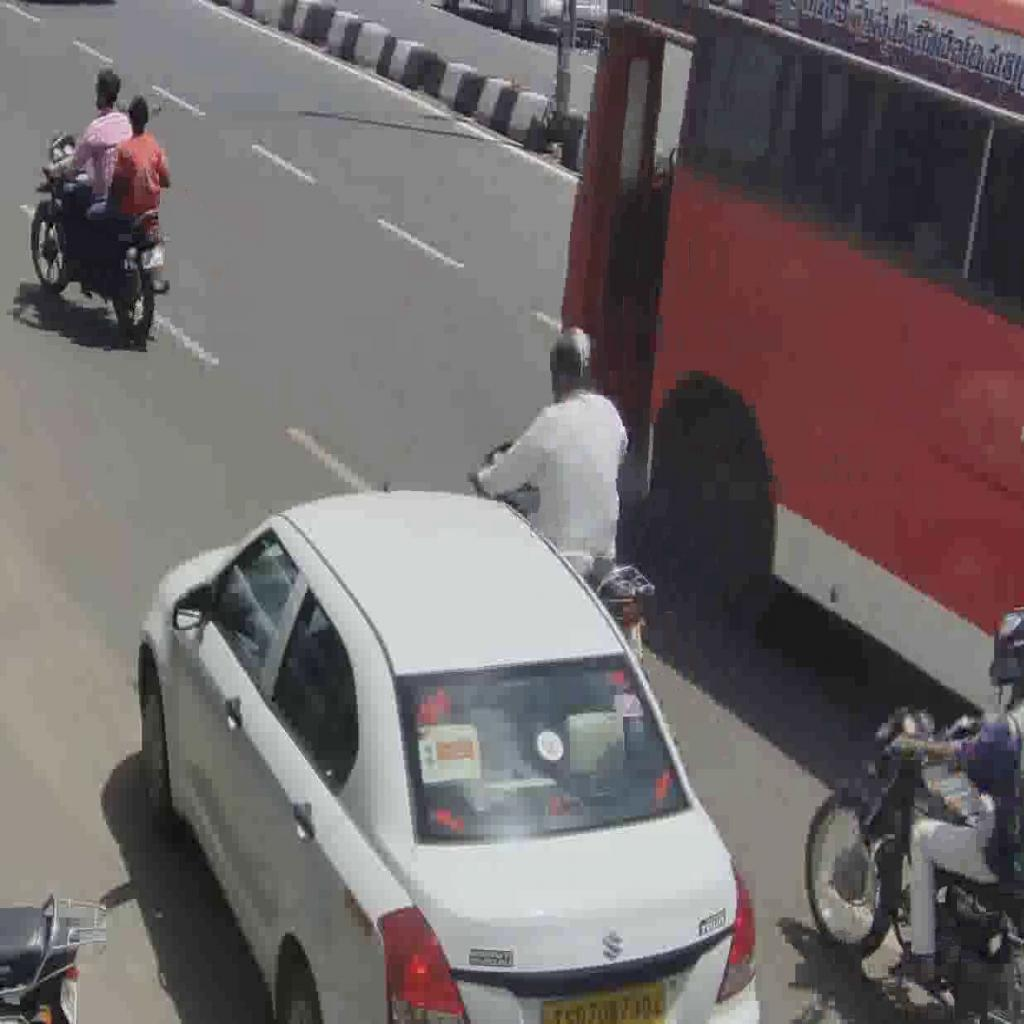bike: (804, 696, 1022, 1024), (30, 130, 173, 345)
rider: (887, 603, 1021, 1003), (40, 66, 130, 286), (78, 95, 173, 286)
